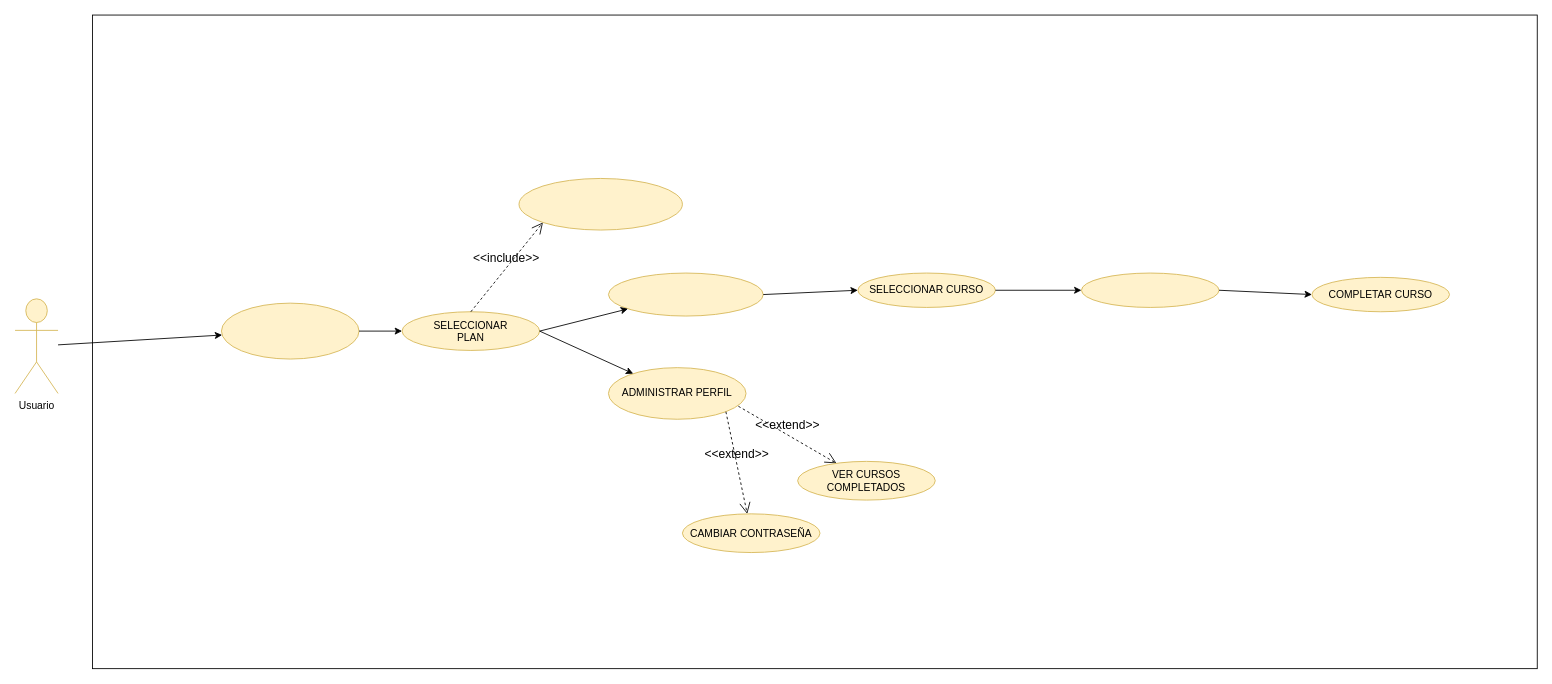
This 1552x684 diagram has some shape labels left out. The centre of each missing label's shape, as x and y in pixels:
"INGRESAR SITIO WEB" goes at [290,330].
"Realizar pago" goes at [600,204].
"VER CATÁLOGO DE CURSOS" goes at [685,294].
"VER PROGRESO DEL CURSO" goes at [1150,289].
